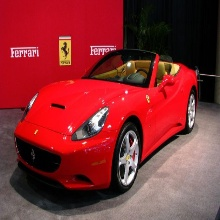no damage: (15, 48, 198, 195)
